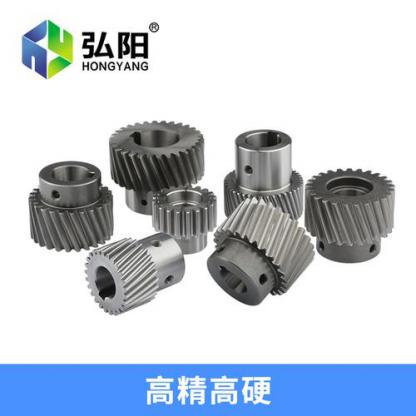FOD: (206, 197, 319, 306), (106, 118, 208, 217), (302, 162, 399, 264), (81, 232, 189, 318), (26, 159, 116, 256), (220, 127, 306, 226), (150, 184, 221, 254)
